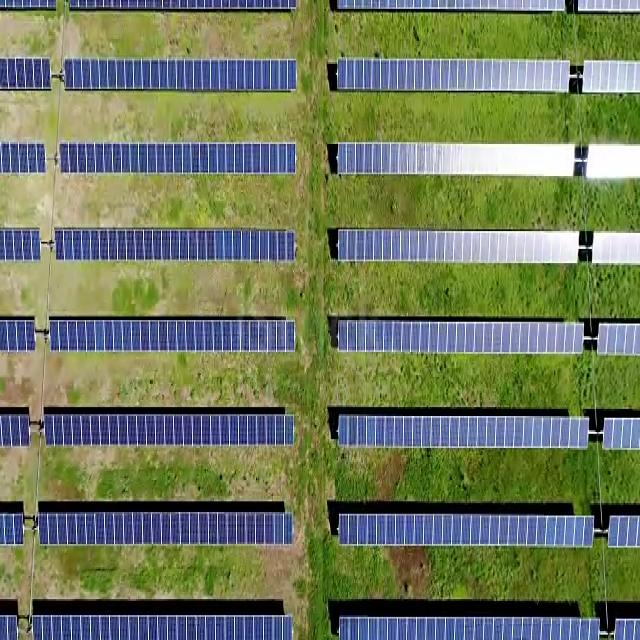Solar-panels: (340, 510, 595, 553), (45, 412, 296, 454), (66, 59, 298, 93), (40, 517, 294, 548), (340, 416, 593, 446), (340, 230, 580, 261), (57, 232, 296, 263), (54, 322, 293, 353), (340, 143, 577, 174), (61, 145, 297, 176), (339, 324, 587, 352), (340, 63, 570, 92)
